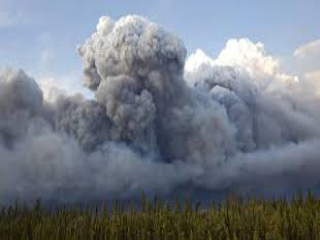smoke: (69, 19, 294, 167)
